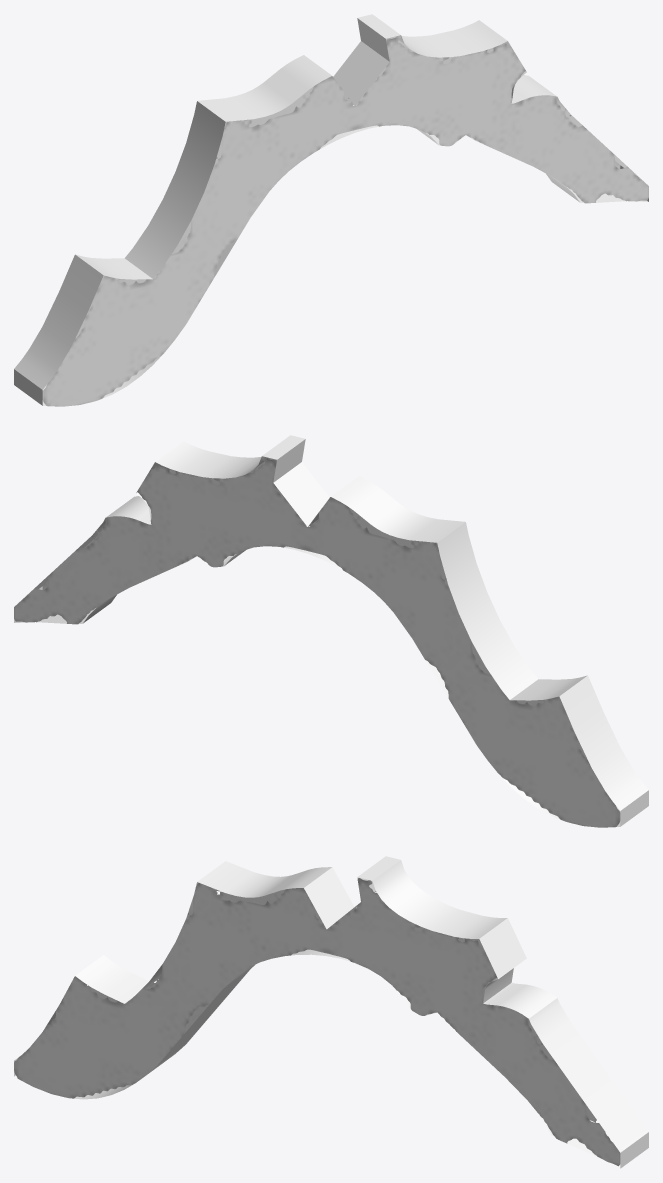
File: Liguria.OBJ
The picture shows the model from 3 angles, top to bottom: view 1: azimuth 30°, elevation 25°; view 2: azimuth 150°, elevation 25°; view 3: azimuth 330°, elevation 25°; orthographic projection.
Size of the model in its own units: 159 by 73.06 by 13.
3 materials, 3 textured.
